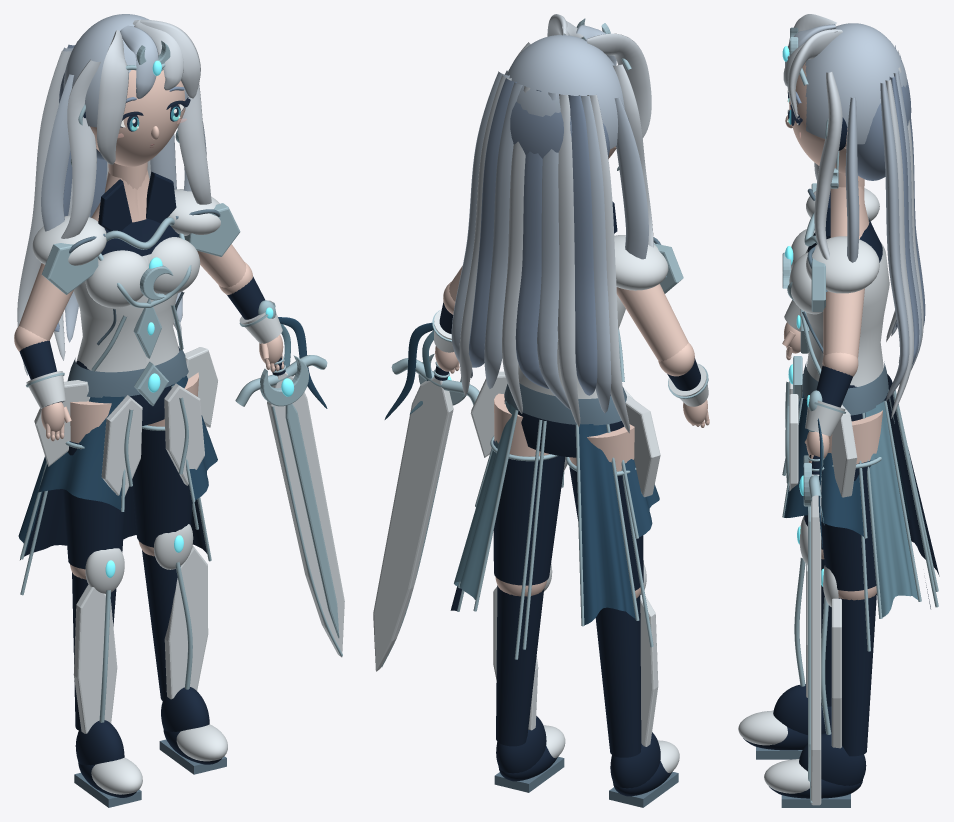
The model's file is luna.glb.
3 views of the same model, side by side, from view 1: azimuth 30°, elevation 25°; view 2: azimuth 150°, elevation 25°; view 3: azimuth 270°, elevation 25° (orthographic). The views are drawn at different scales.
Visible parts, largest first — view 1: Luna - original moon swordswoman; view 2: Luna - original moon swordswoman; view 3: Luna - original moon swordswoman.
Boxes of the visible parts, x1=… form: Luna - original moon swordswoman: x1=14, y1=14, x2=344, y2=807; Luna - original moon swordswoman: x1=373, y1=14, x2=709, y2=807; Luna - original moon swordswoman: x1=738, y1=14, x2=939, y2=807.
Bounding box in the file's own units: 2.31 × 5.15 × 1.25.
